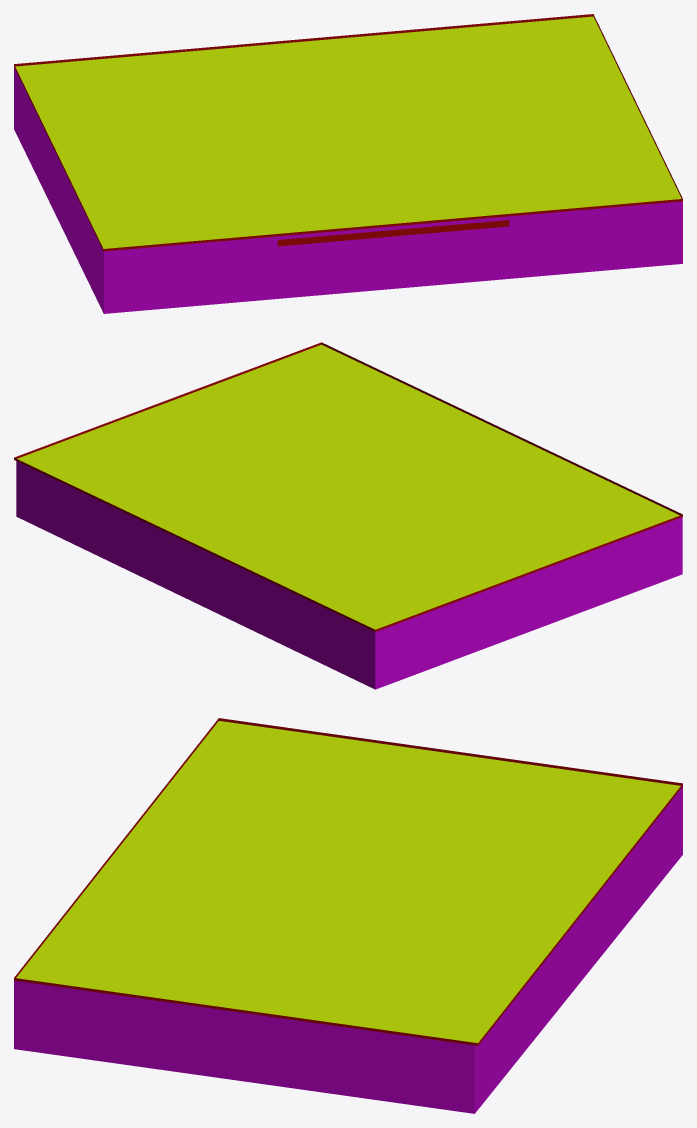
The model's file is bgj_110.glb.
The picture shows the model from 3 angles, top to bottom: view 1: azimuth 30°, elevation 25°; view 2: azimuth 150°, elevation 25°; view 3: azimuth 270°, elevation 25°; orthographic projection. The views are drawn at different scales.
Visible parts, largest first — view 1: bgj_110; view 2: bgj_110; view 3: bgj_110.
Part boxes in pixels (bbox=[...]): bgj_110: bbox=[14, 14, 682, 313]; bgj_110: bbox=[14, 342, 682, 689]; bgj_110: bbox=[14, 718, 682, 1113].
Bounding box in the file's own units: 88.92 × 9.08 × 77.31.
